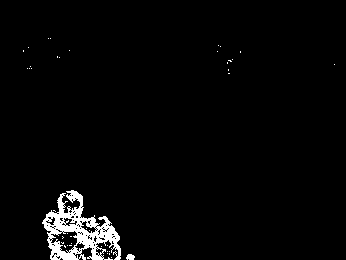person: (46, 190, 135, 260)
